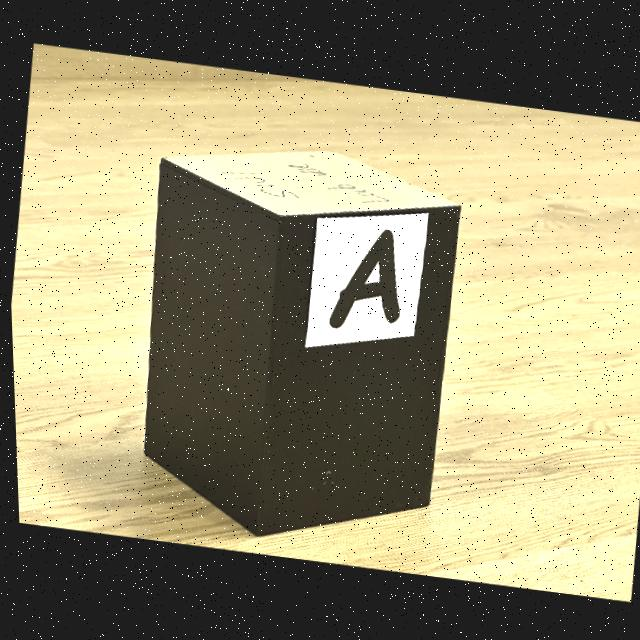A: (326, 229, 397, 328)
